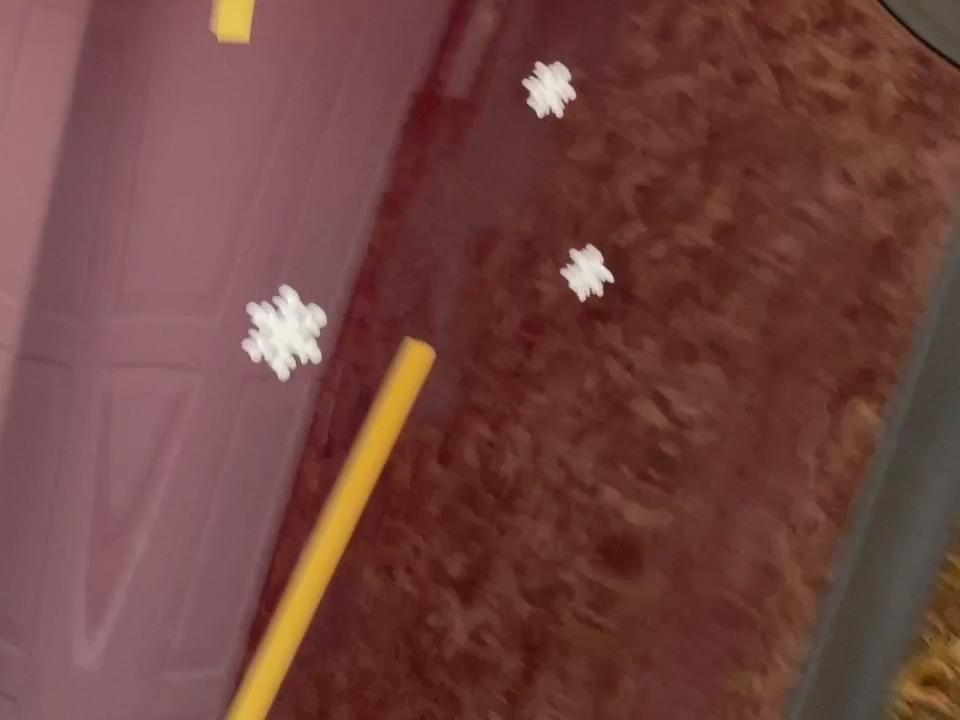dent: (231, 279, 333, 389), (514, 49, 592, 132), (549, 236, 625, 316)
scratch: (206, 333, 453, 720), (208, 0, 289, 53)
